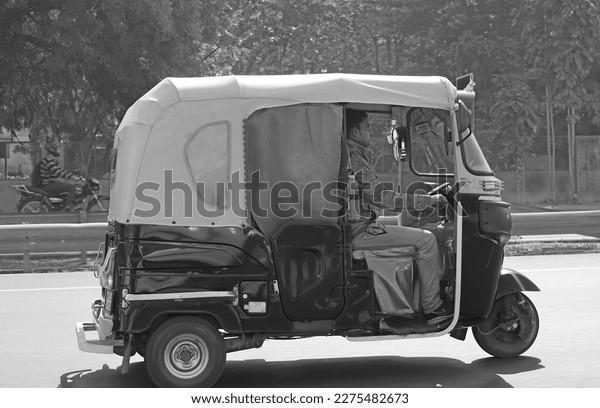keke: (84, 68, 547, 386)
